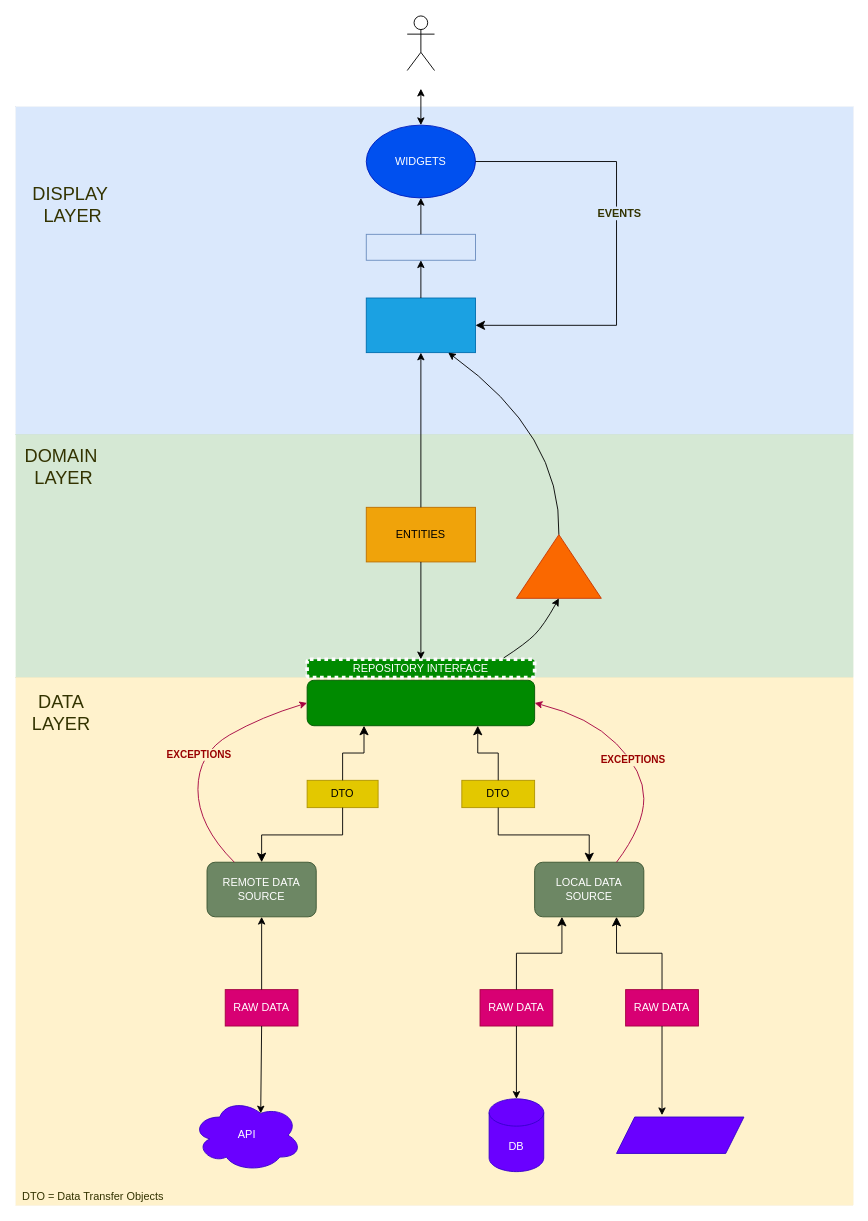
This 868x1221 diagram has some shape labels left out. Each missing label, with the centre of its shape:
Actor: point (420, 43)
CONTROLLERS (PROVIDERS): point (420, 325)
FAILURES: point (558, 566)
LOCAL SERVICES: point (680, 1134)
REPOSITORY IMPL: point (420, 702)
STATES: point (420, 246)
